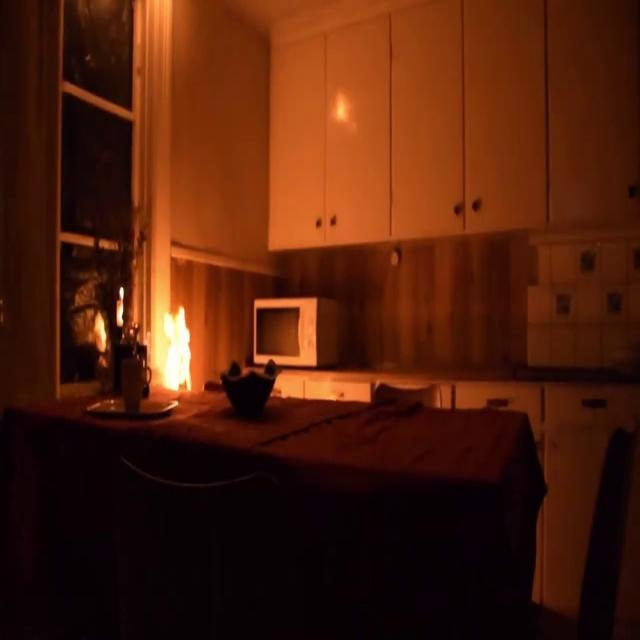Fire: (145, 280, 203, 405)
